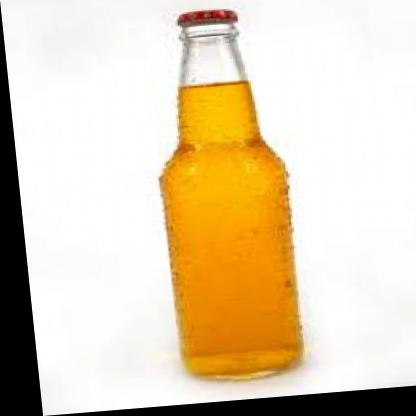trash: (161, 10, 302, 378)
